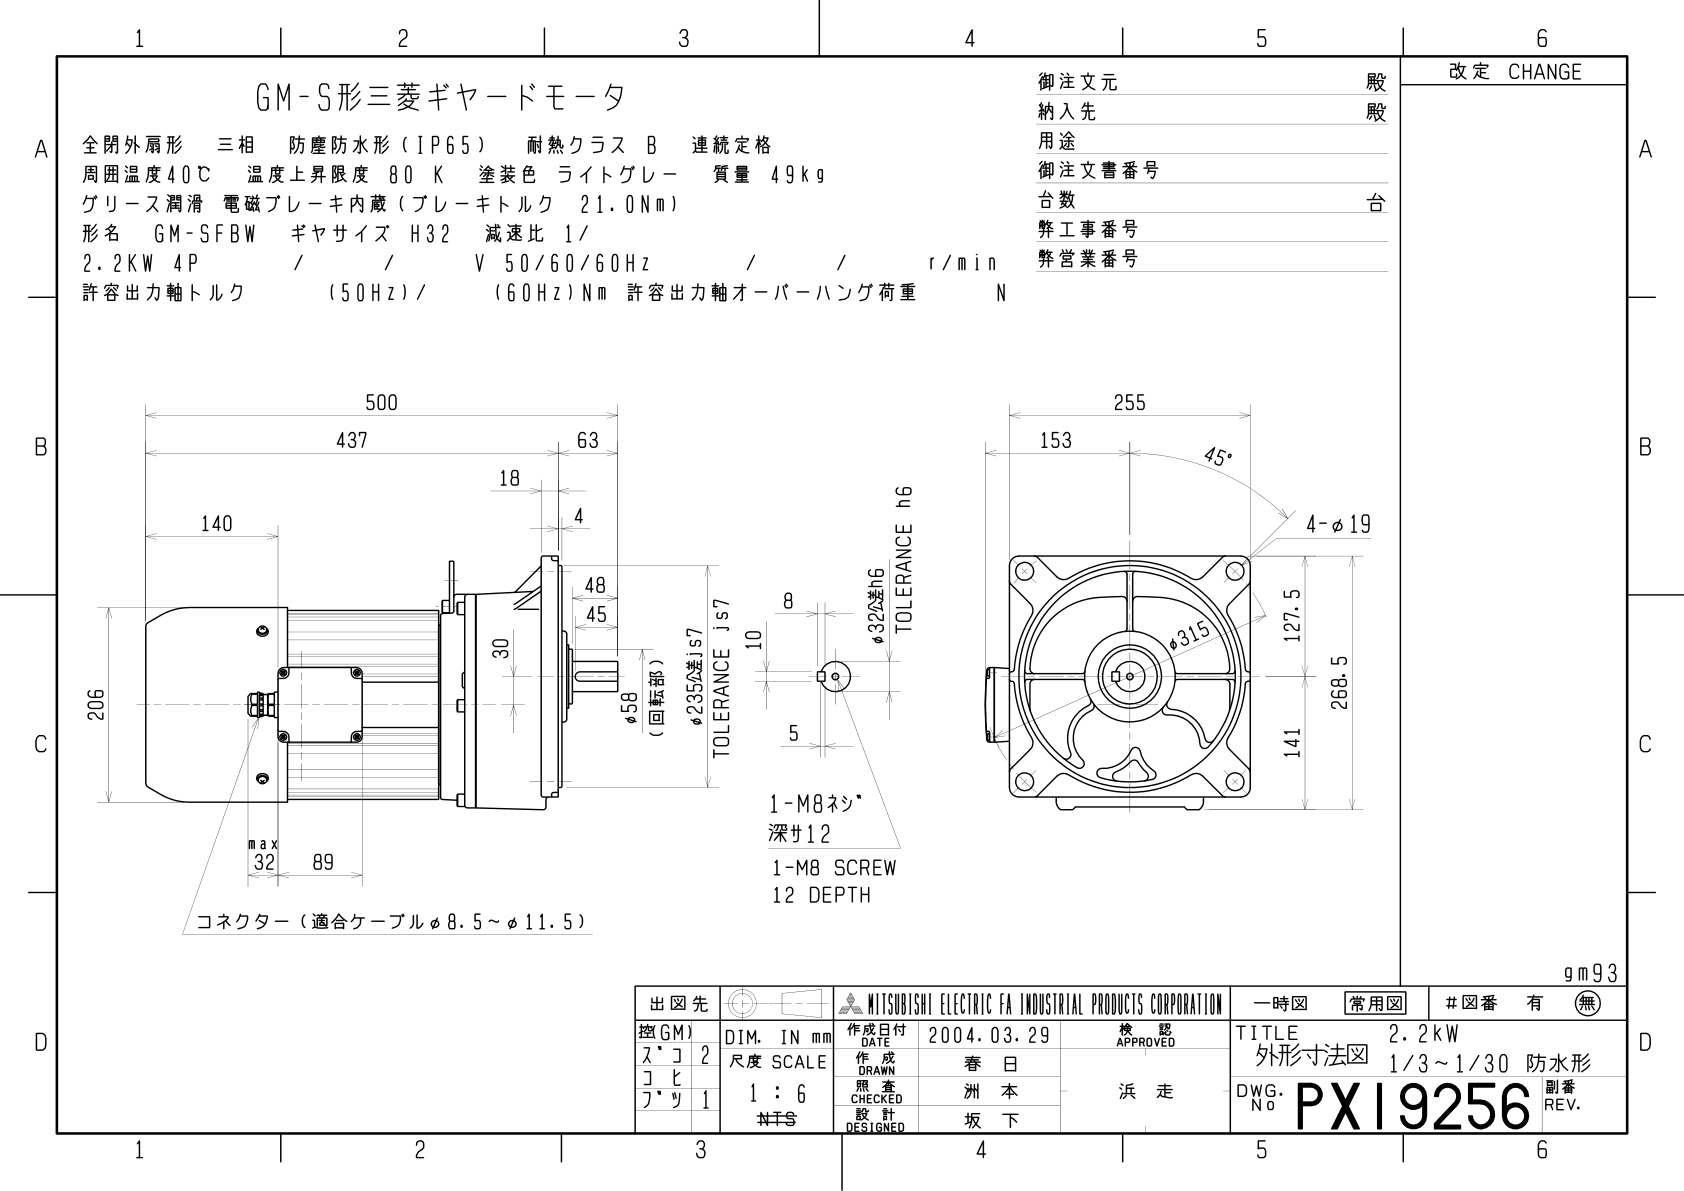GM_S_IP65＿三相_フランジ: (75, 349, 1385, 949)
